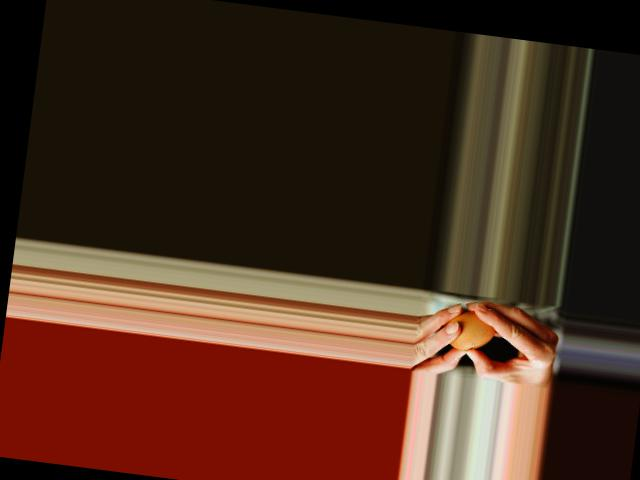egg: (442, 307, 496, 354)
